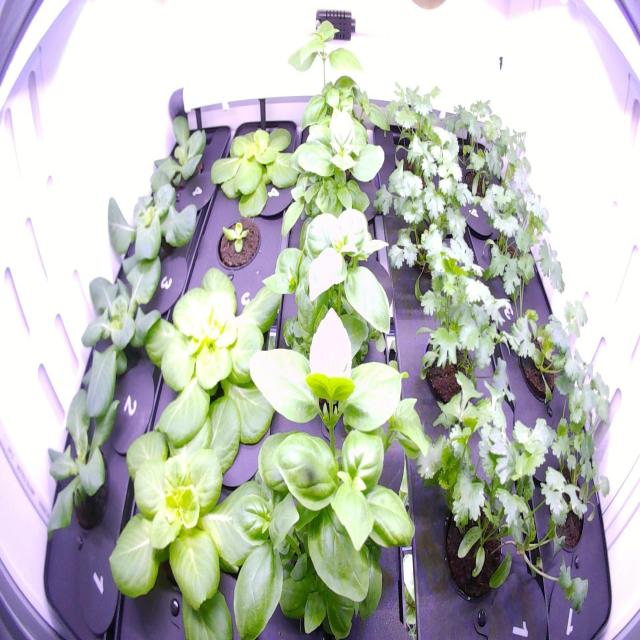young: (102, 371, 288, 638), (136, 252, 294, 490), (71, 237, 178, 433), (99, 150, 204, 318), (39, 367, 127, 555), (203, 111, 312, 228), (147, 99, 214, 200), (210, 206, 265, 276)
